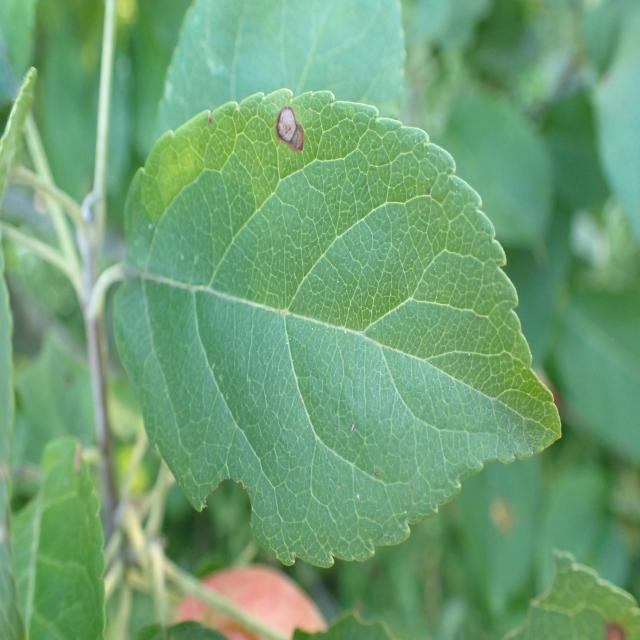frog-eye-leaf-spot: (112, 85, 564, 570)
